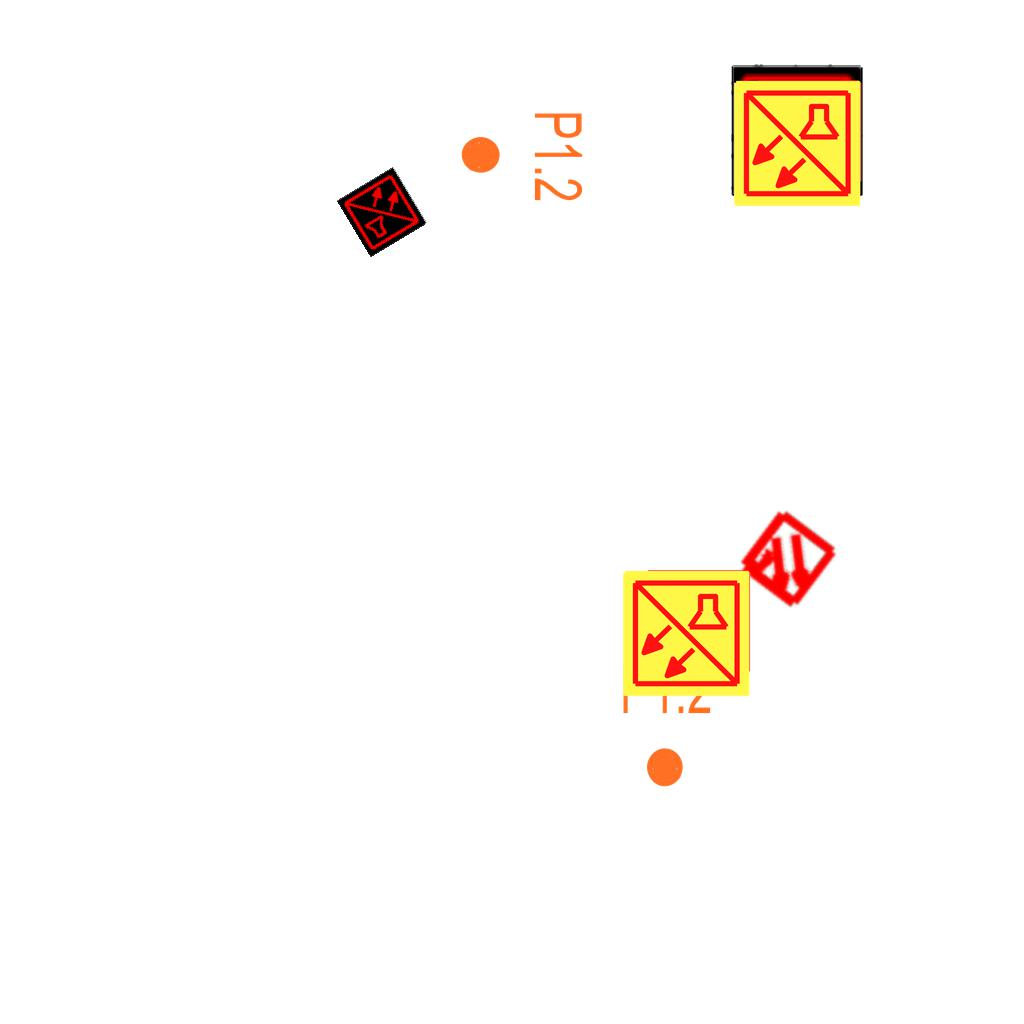Downlight_LED_Einbauleuchten_Flur: (620, 662, 713, 790), (458, 110, 586, 203)
OKW_Multisensormelder_(Kombination_optischer_Rauch-Kahlenmonoxid_Waerme-Melder): (731, 64, 863, 196), (620, 567, 752, 699), (731, 77, 863, 209), (336, 166, 428, 258)
OT_Multisensormelder_(Kombination_RMO_WMD): (707, 481, 866, 640)
